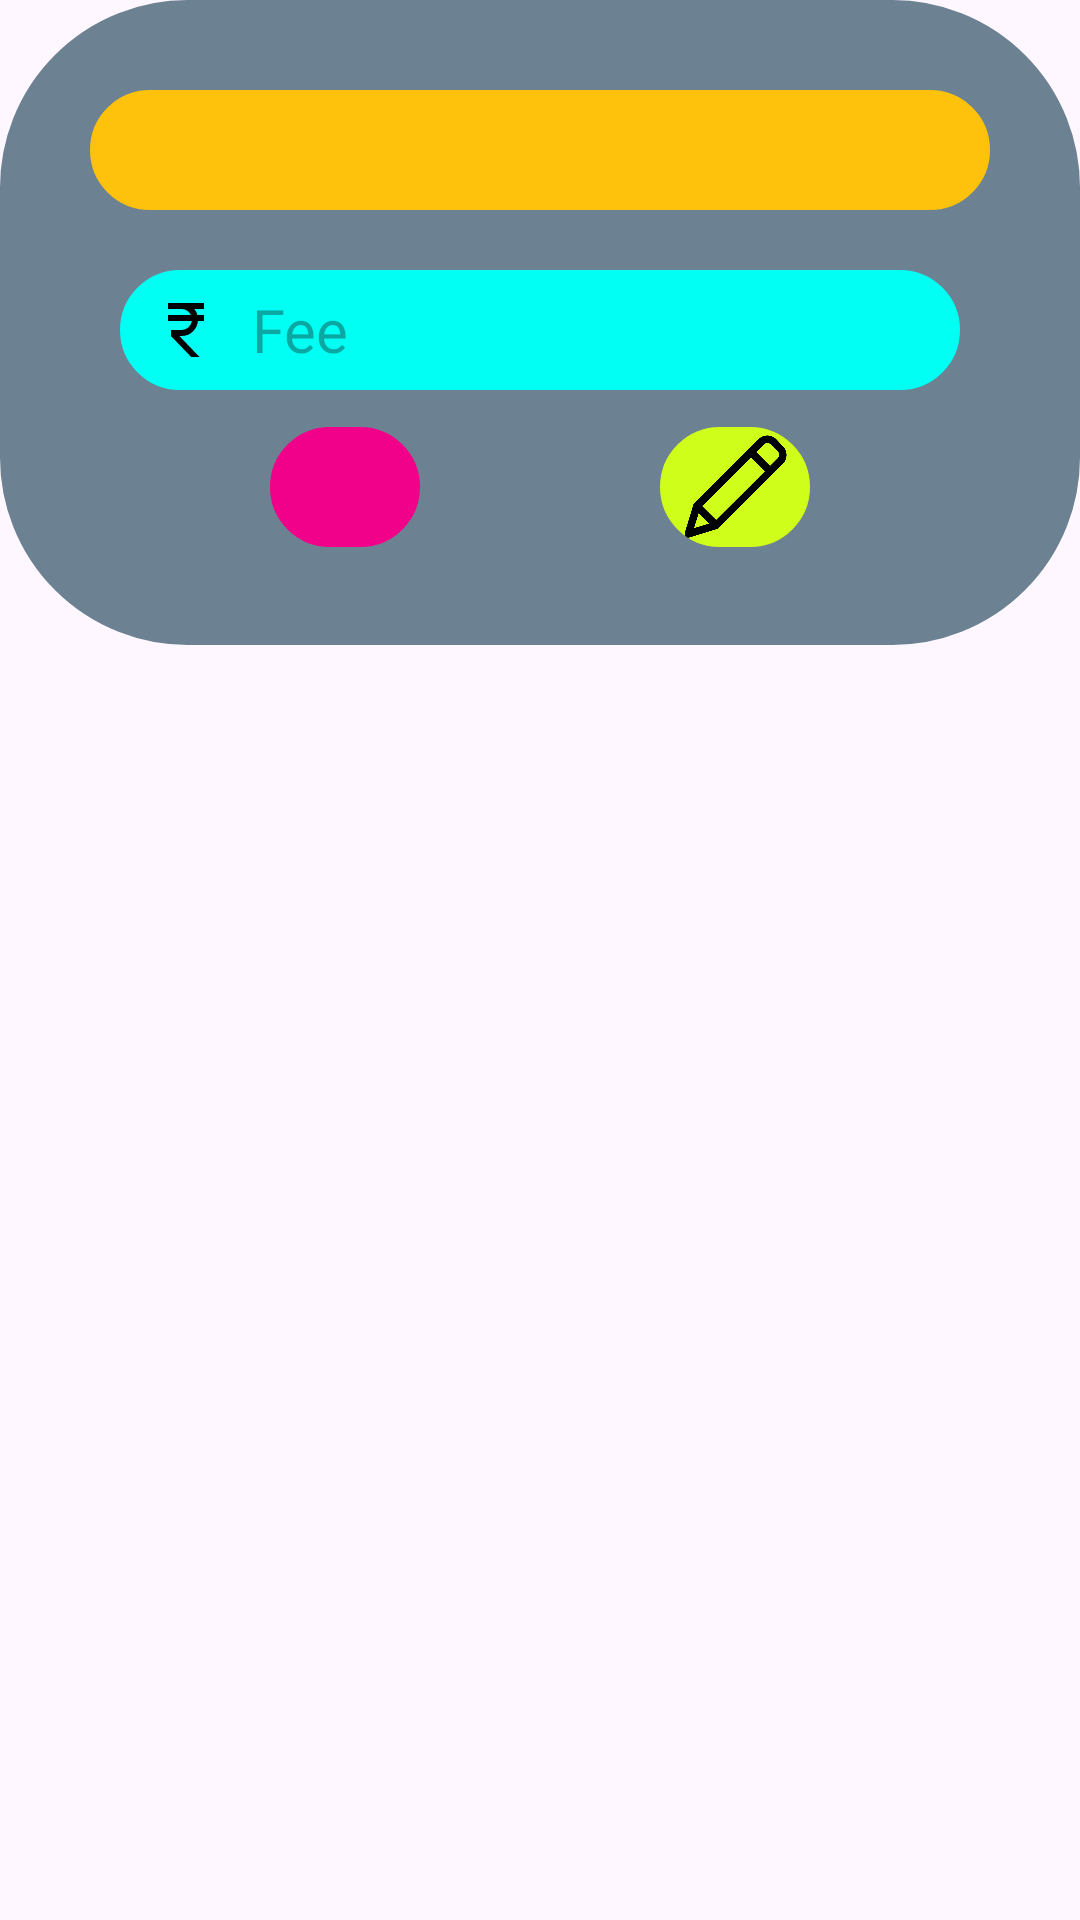

Point at icon controls on the screen. Image size 1080px×1920px, points as point (x, y).
edit: point (735, 487)
